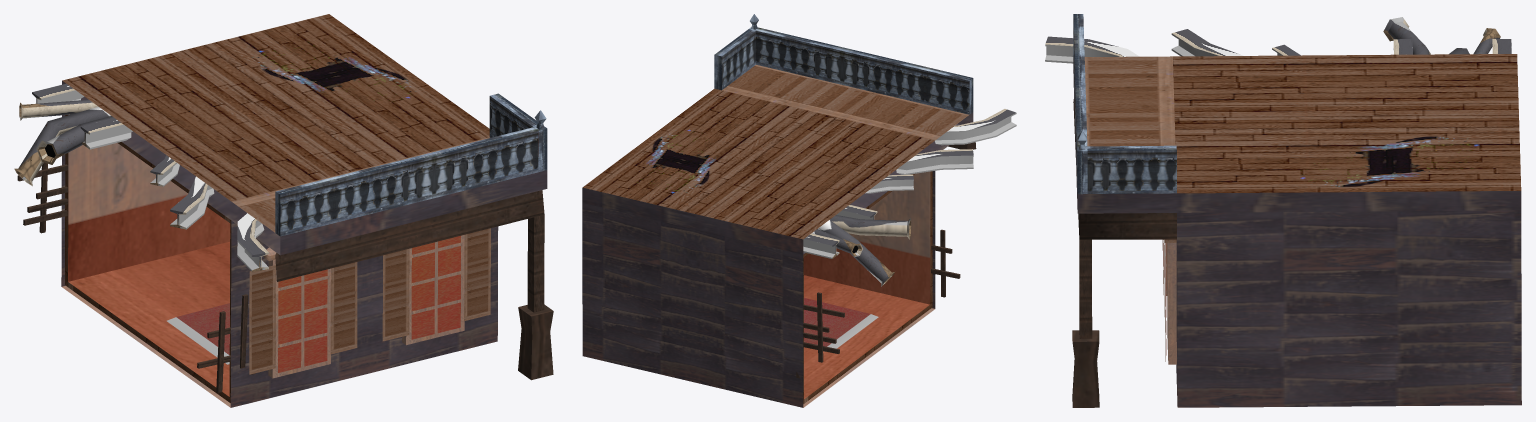
Rendered from Spooky_Tower_Floating_Cabin_02_Art.glb.
The picture shows the model from 3 angles, left to right: view 1: azimuth 30°, elevation 25°; view 2: azimuth 150°, elevation 25°; view 3: azimuth 270°, elevation 25°; orthographic projection. The views are drawn at different scales.
Visible parts, largest first — view 1: Spooky_Tower_Floating_Cabin_02_Art; view 2: Spooky_Tower_Floating_Cabin_02_Art; view 3: Spooky_Tower_Floating_Cabin_02_Art.
Part boxes in pixels (<box>): Spooky_Tower_Floating_Cabin_02_Art: <box>14,14,553,407</box>; Spooky_Tower_Floating_Cabin_02_Art: <box>582,14,1016,407</box>; Spooky_Tower_Floating_Cabin_02_Art: <box>1045,14,1521,407</box>.
Size of the model in its own units: 5.45 by 3.89 by 6.09.
Materials: 6 (6 with a texture image).
